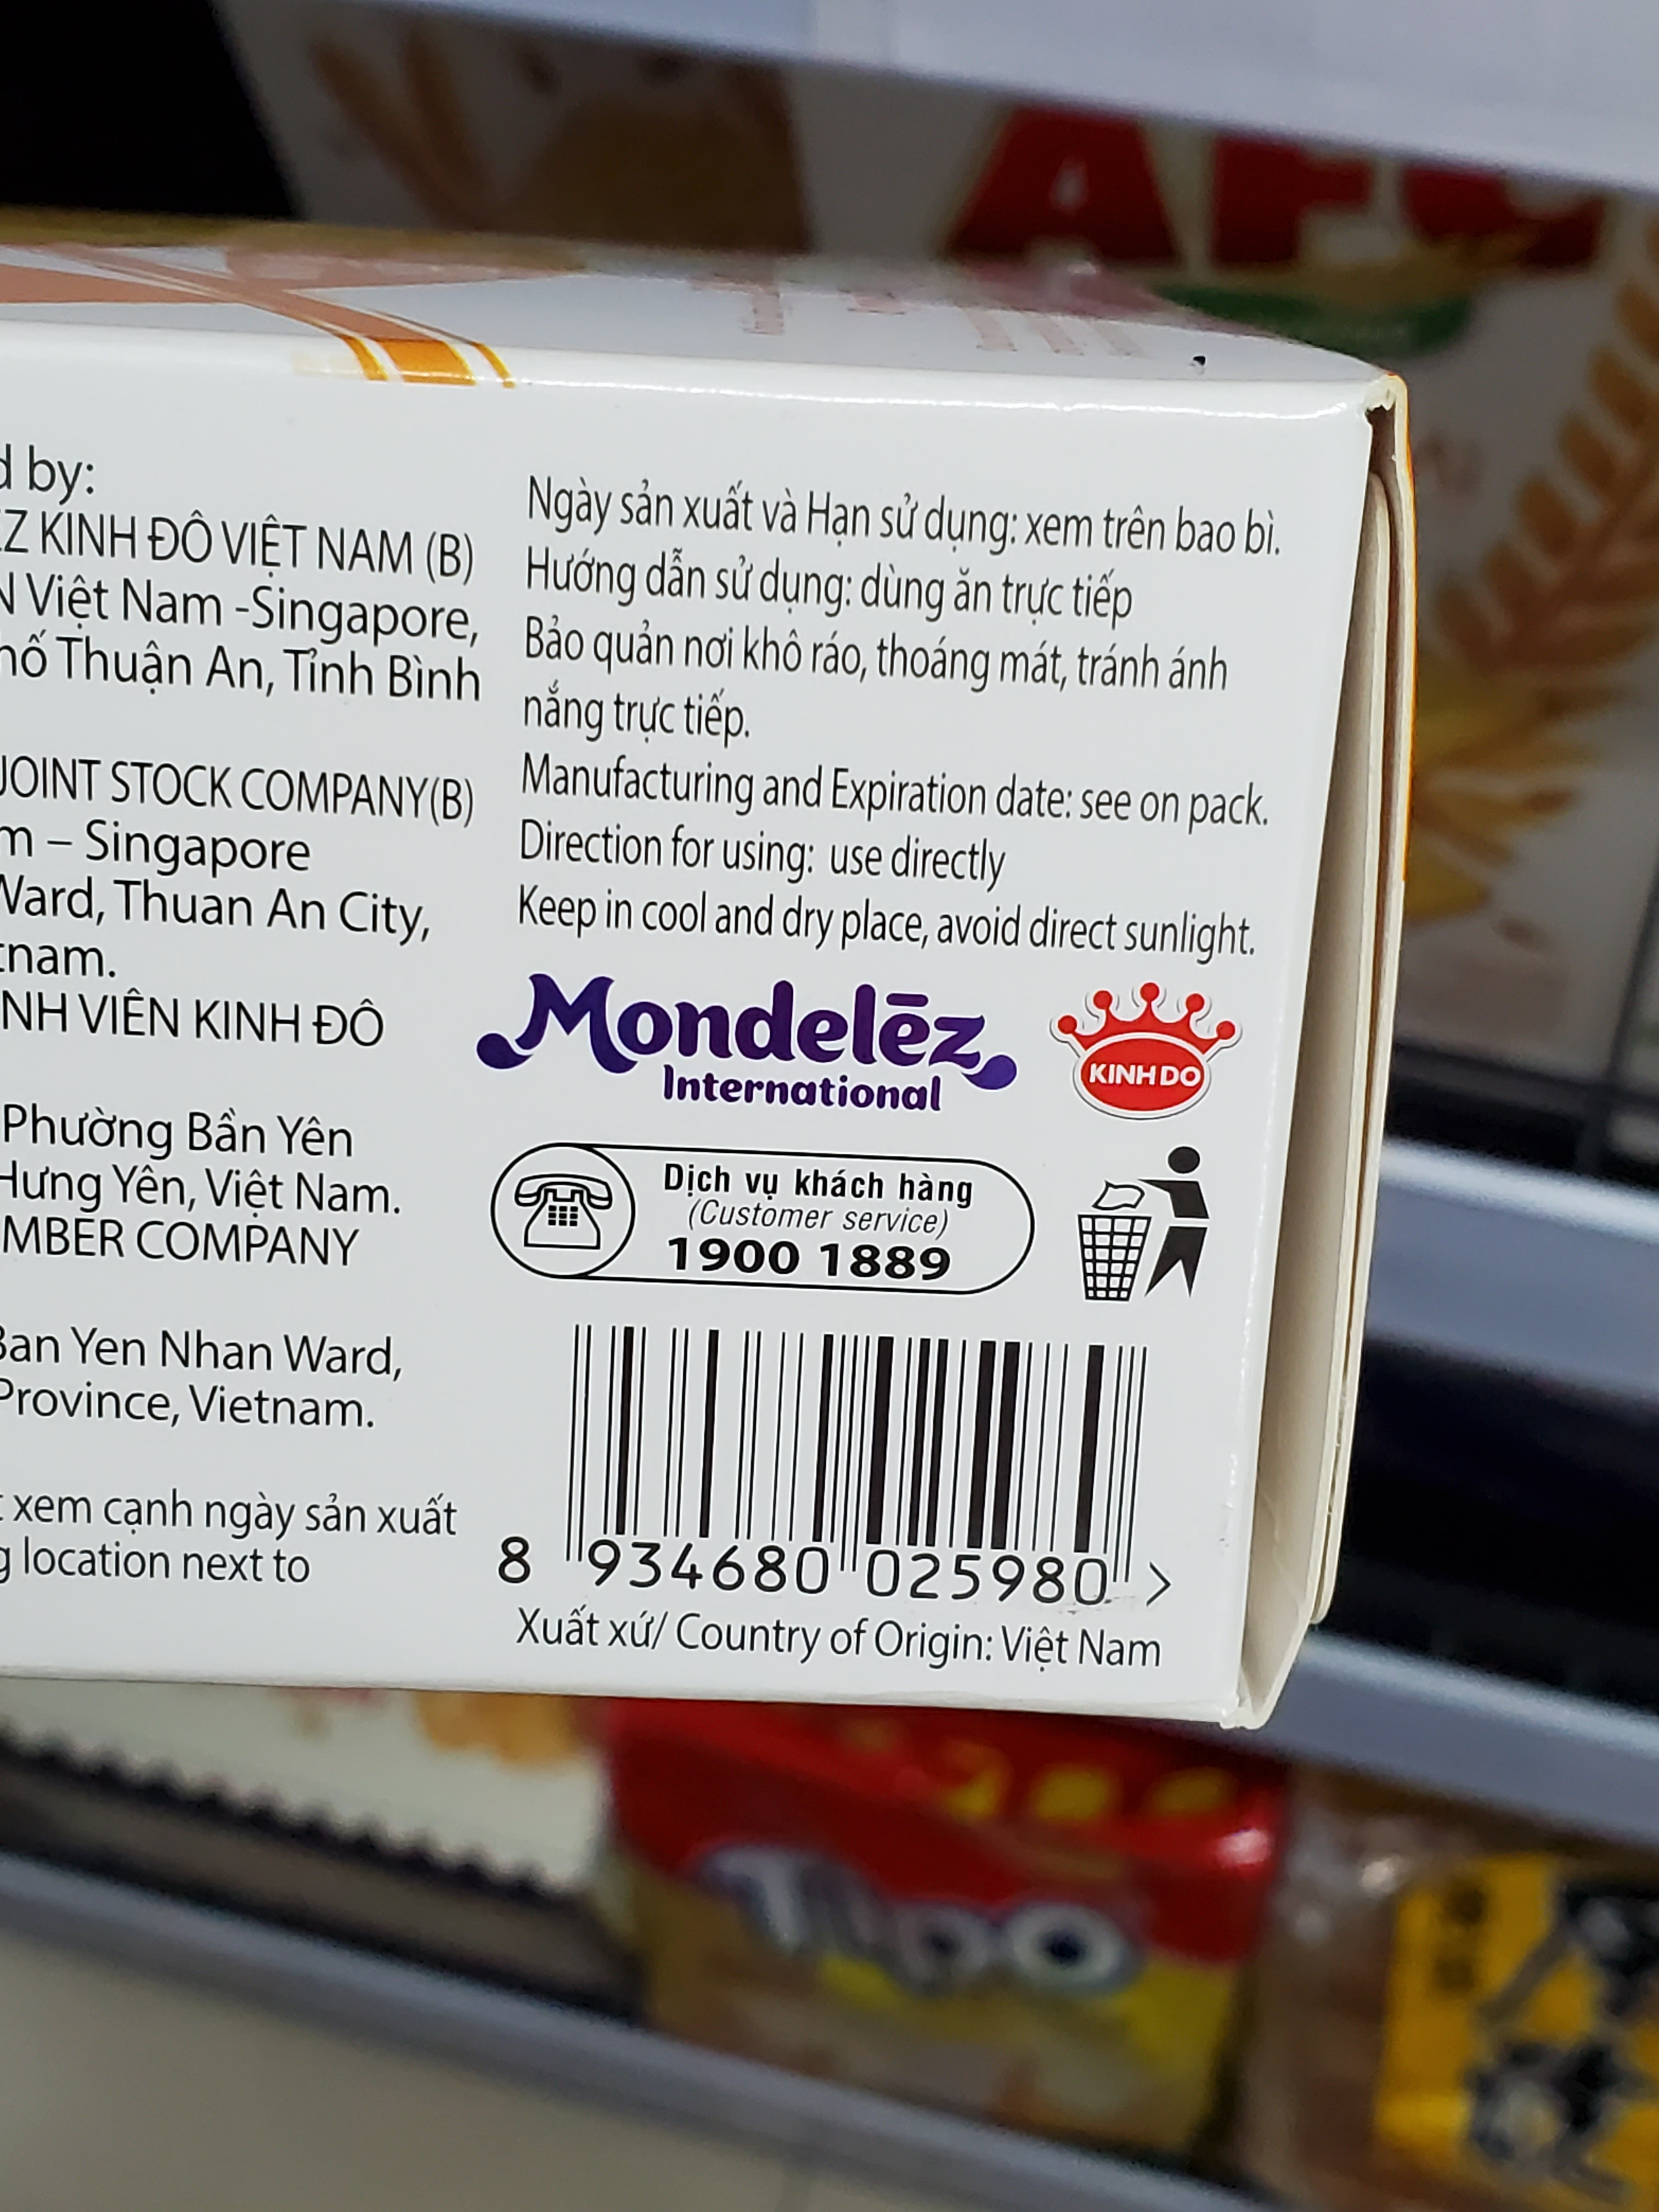barcode: (472, 1310, 1185, 1613)
